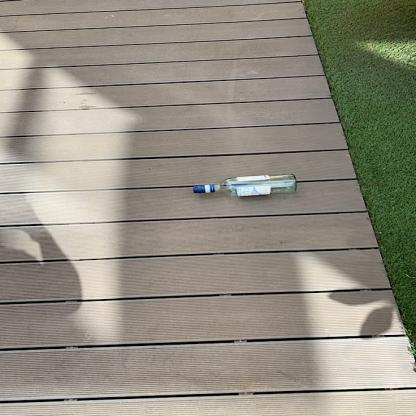trash: (188, 171, 298, 199)
